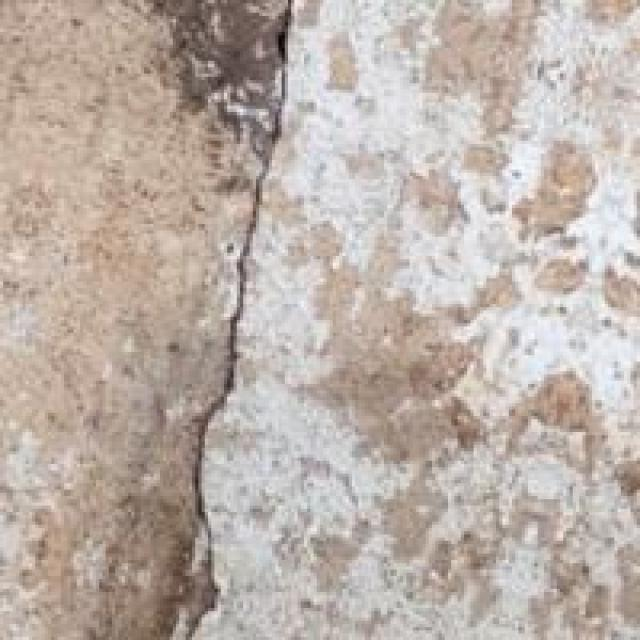Crack: (154, 3, 316, 637)
